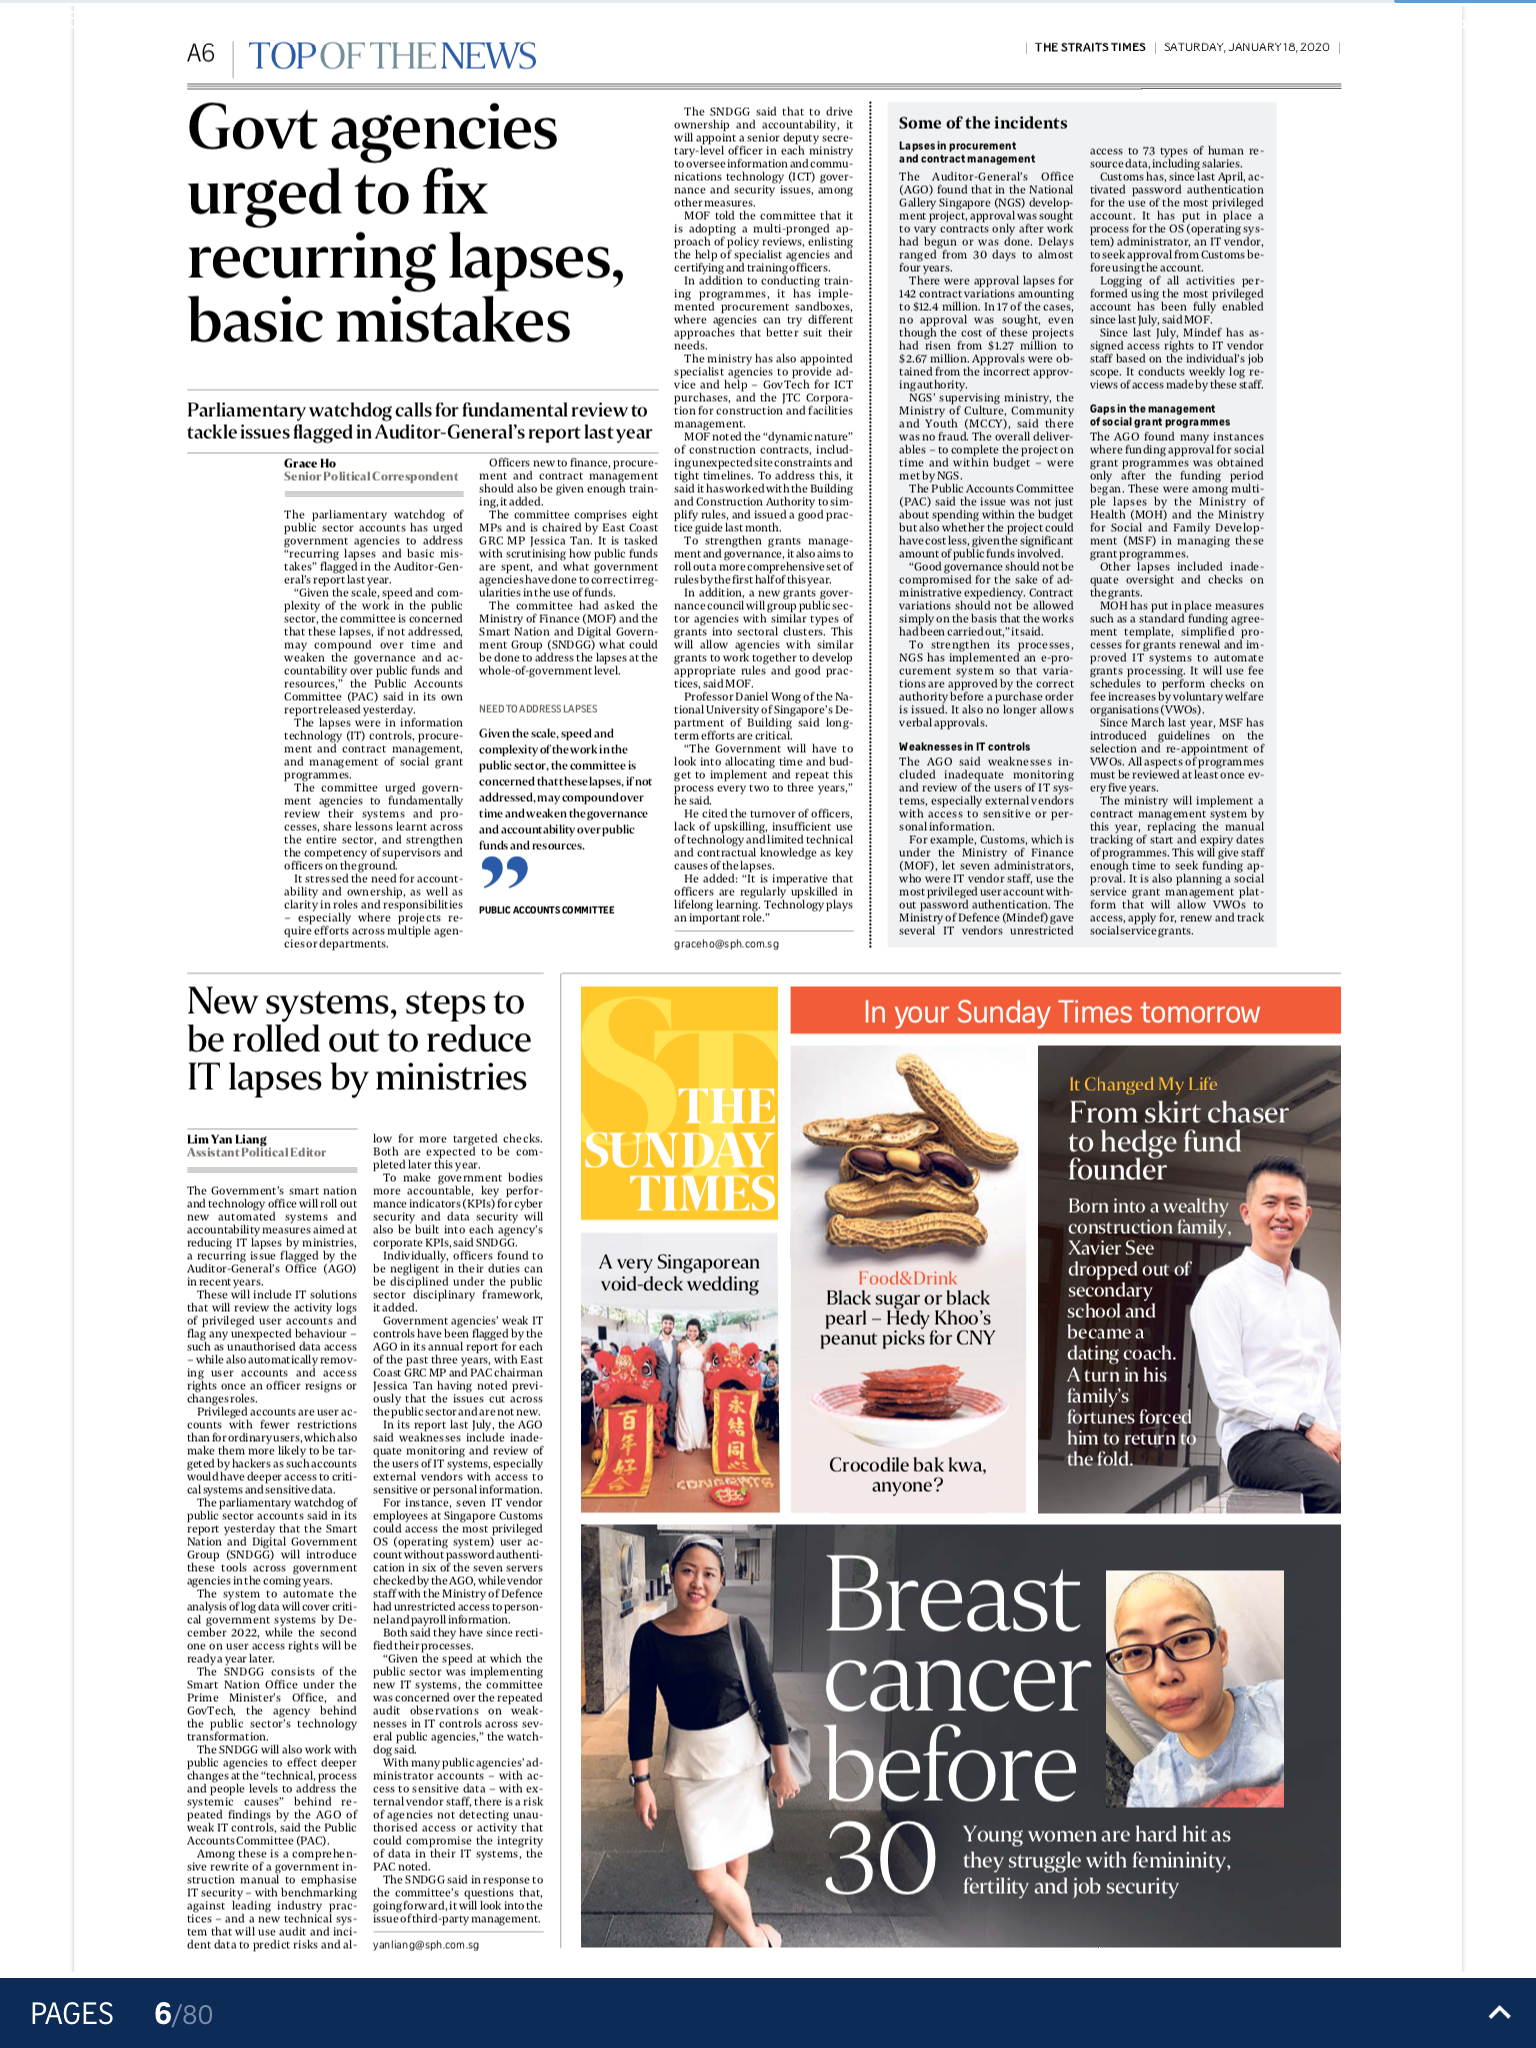Headline: (168, 92, 636, 366), (171, 976, 553, 1113), (169, 395, 662, 448)
